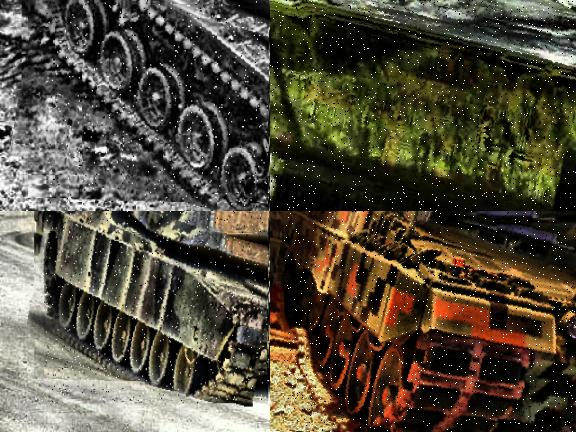tanks: (271, 1, 576, 212), (286, 212, 576, 432), (48, 1, 271, 212), (45, 212, 270, 404), (259, 187, 270, 199)
